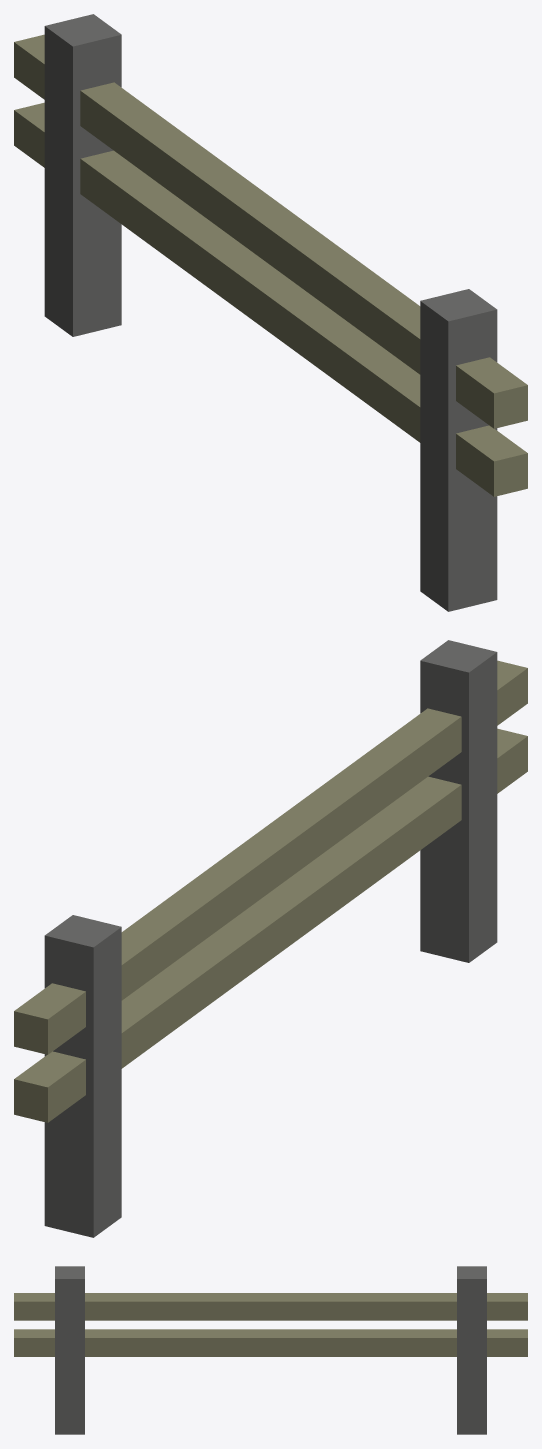
The model's file is lp_smallfence(Colour).fbx.
The picture shows the model from 3 angles, top to bottom: view 1: azimuth 30°, elevation 25°; view 2: azimuth 150°, elevation 25°; view 3: azimuth 270°, elevation 25°; orthographic projection. The views are drawn at different scales.
Parts seen in each view (by area): view 1: Cube.002, Cube.003, Cube, Cube.001; view 2: Cube.002, Cube.003, Cube.001, Cube; view 3: Cube.002, Cube.003, Cube, Cube.001.
Part boxes in pixels (x1,y1,x2,y2): Cube.002: (14,34,527,428); Cube.003: (14,102,527,496); Cube: (44,14,121,336); Cube.001: (420,289,497,611); Cube.002: (14,660,527,1054); Cube.003: (14,728,527,1122); Cube.001: (420,640,497,962); Cube: (44,915,121,1237); Cube.002: (14,1293,527,1320); Cube.003: (14,1329,527,1356); Cube: (457,1266,486,1434); Cube.001: (55,1266,84,1434).
Size of the model in its own units: 19.29 by 110 by 328.
